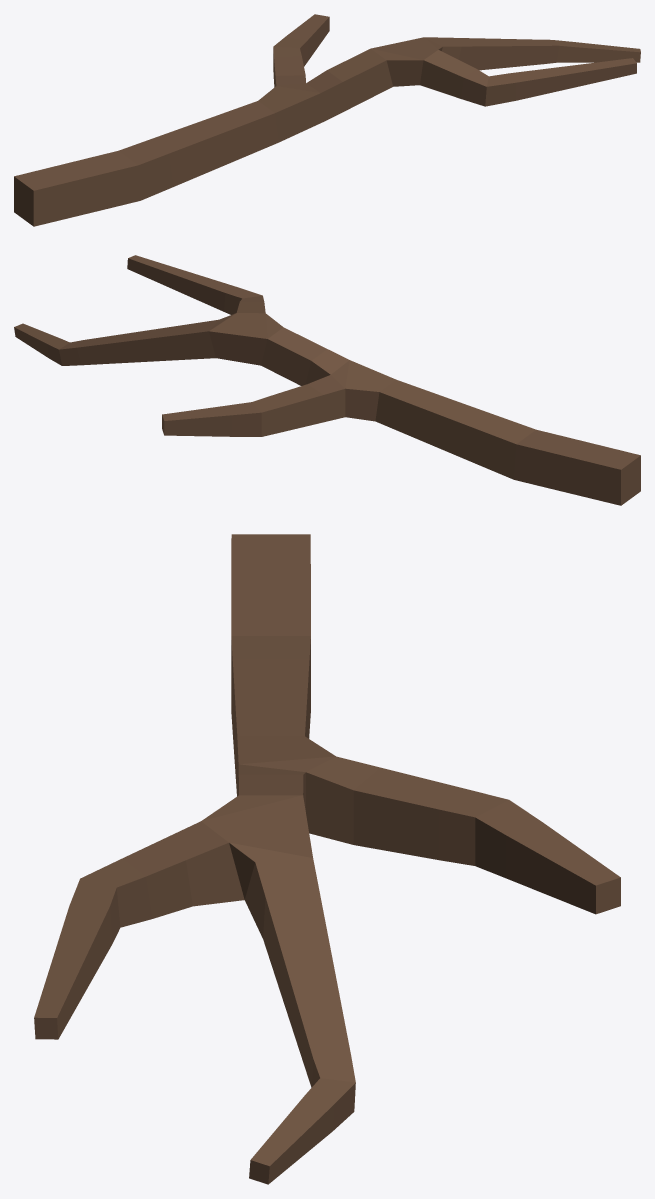
File: Desert_DeadBranch.fbx
3 views of the same model, one above another, from view 1: azimuth 30°, elevation 25°; view 2: azimuth 150°, elevation 25°; view 3: azimuth 270°, elevation 25° (orthographic). The views are drawn at different scales.
Parts seen in each view (by area): view 1: Dead branch; view 2: Dead branch; view 3: Dead branch.
Boxes of the visible parts, x1=… form: Dead branch: x1=14, y1=14, x2=640, y2=226; Dead branch: x1=14, y1=255, x2=640, y2=505; Dead branch: x1=34, y1=534, x2=620, y2=1184.
Bounding box in the file's own units: 616 × 75.45 × 254.
